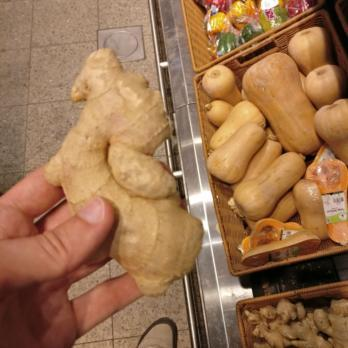Ginger: (39, 45, 201, 295), (251, 299, 348, 348)
